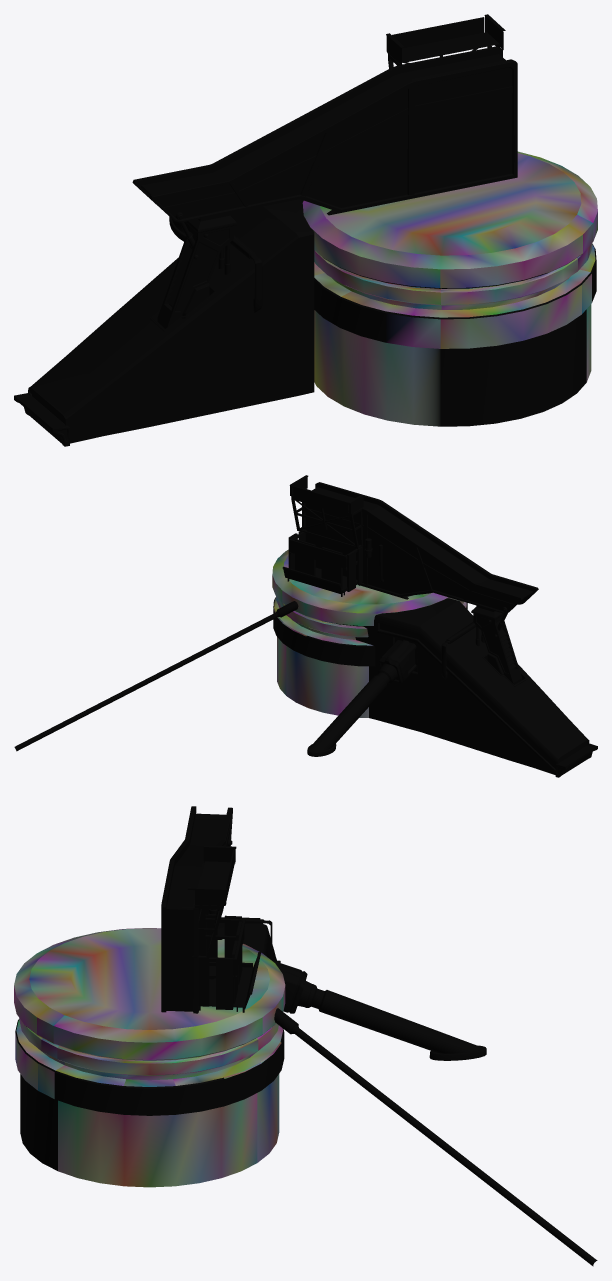
Rendered from CS_Stands_05.gltf.
The picture shows the model from 3 angles, top to bottom: view 1: azimuth 30°, elevation 25°; view 2: azimuth 150°, elevation 25°; view 3: azimuth 270°, elevation 25°; orthographic projection. The views are drawn at different scales.
Parts seen in each view (by area): view 1: CS_Stands_05; view 2: CS_Stands_05; view 3: CS_Stands_05.
Part boxes in pixels (x1=…): CS_Stands_05: x1=14, y1=14, x2=597, y2=446; CS_Stands_05: x1=14, y1=475, x2=597, y2=777; CS_Stands_05: x1=14, y1=806, x2=597, y2=1266.
Size of the model in its own units: 182 by 82.29 by 151.
